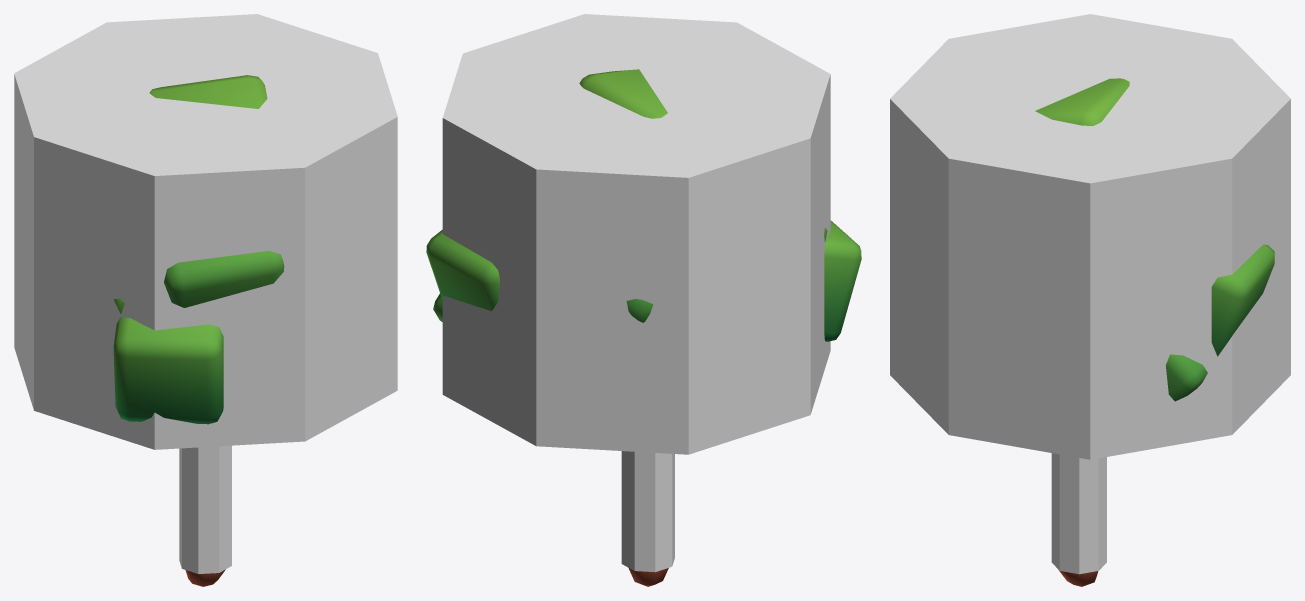
Rendered from tree_3_c.glb.
The picture shows the model from 3 angles, left to right: view 1: azimuth 30°, elevation 25°; view 2: azimuth 150°, elevation 25°; view 3: azimuth 270°, elevation 25°; orthographic projection.
Visible parts, largest first — view 1: COL_CYL_00.009, Tree_2_E_Color1, COL_CYL_00.007; view 2: COL_CYL_00.009, Tree_2_E_Color1, COL_CYL_00.007; view 3: COL_CYL_00.009, Tree_2_E_Color1, COL_CYL_00.007.
Boxes of the visible parts, left/top/right/bottom form: COL_CYL_00.009: left=14, top=14, right=397, bottom=449; Tree_2_E_Color1: left=113, top=75, right=284, bottom=586; COL_CYL_00.007: left=179, top=445, right=231, bottom=573; COL_CYL_00.009: left=442, top=14, right=830, bottom=454; Tree_2_E_Color1: left=426, top=69, right=861, bottom=586; COL_CYL_00.007: left=621, top=451, right=674, bottom=572; COL_CYL_00.009: left=890, top=14, right=1290, bottom=459; Tree_2_E_Color1: left=1035, top=78, right=1274, bottom=586; COL_CYL_00.007: left=1051, top=453, right=1106, bottom=574.
Size of the model in its own units: 3.05 by 4.2 by 3.05.
Materials: 1 (1 with a texture image).
